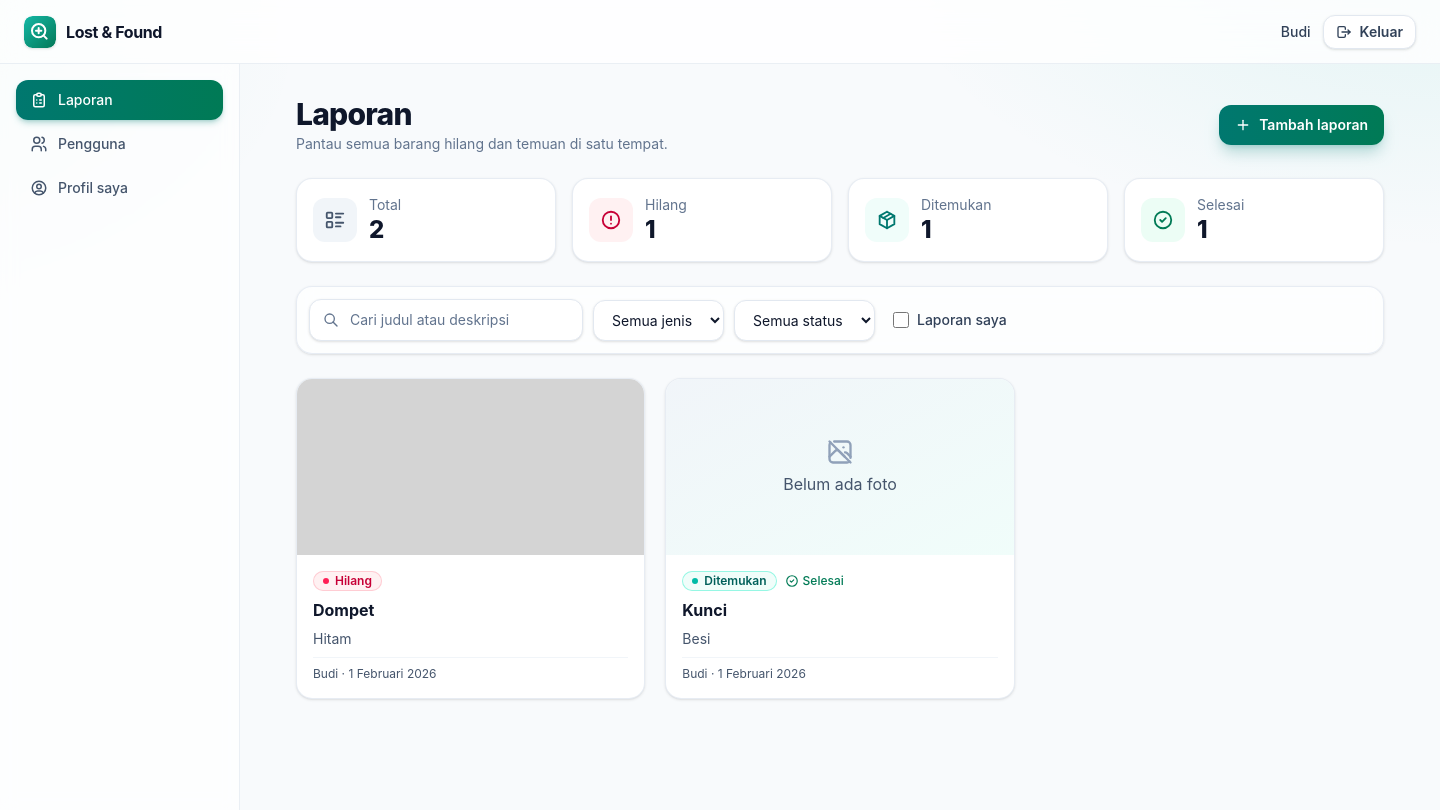
Test: Layout › logs out from the navbar
Click the button "Keluar" at x=1369, y=32, box [1323,14,1416,48]
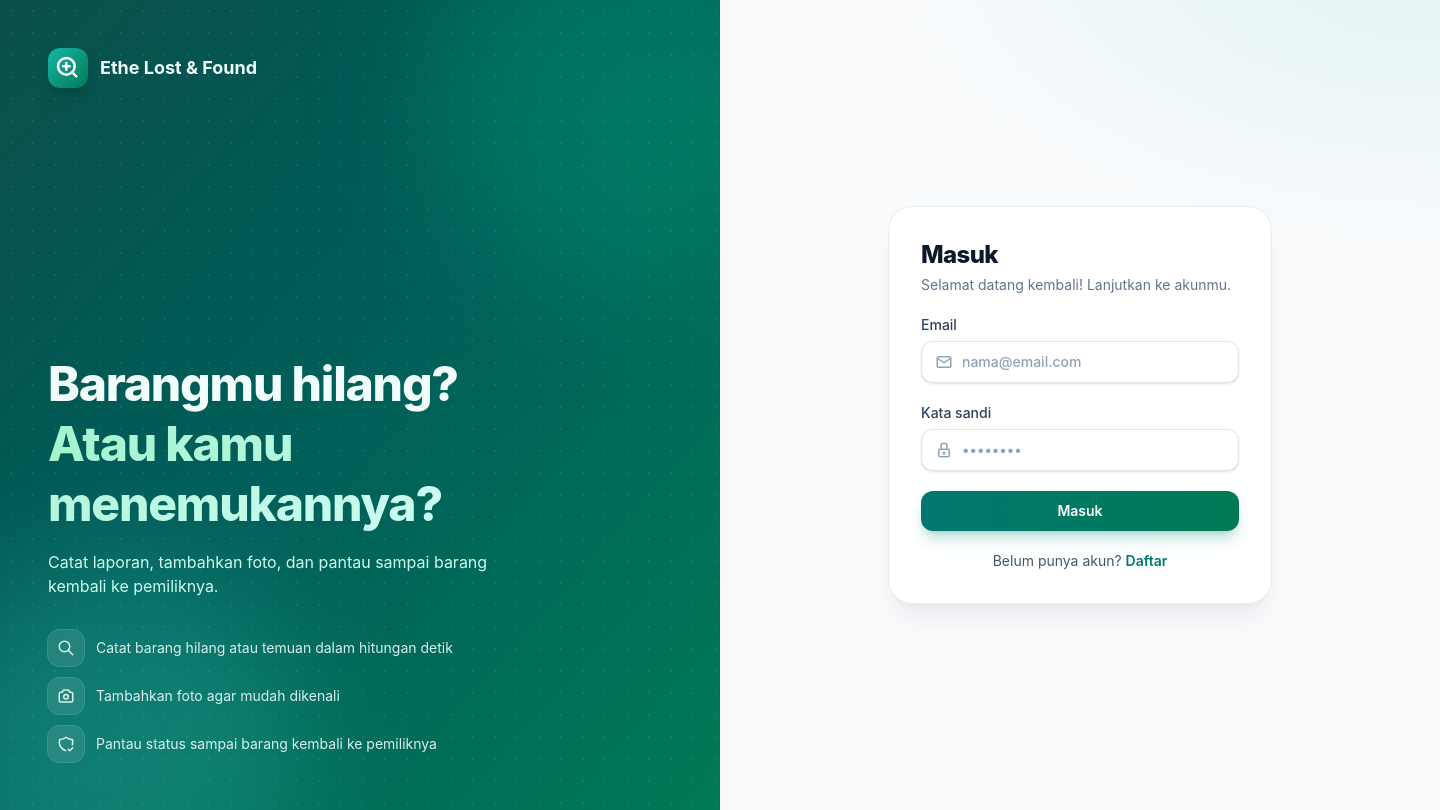
Now the heading "Masuk" is shown, box [921,240,998,269]
